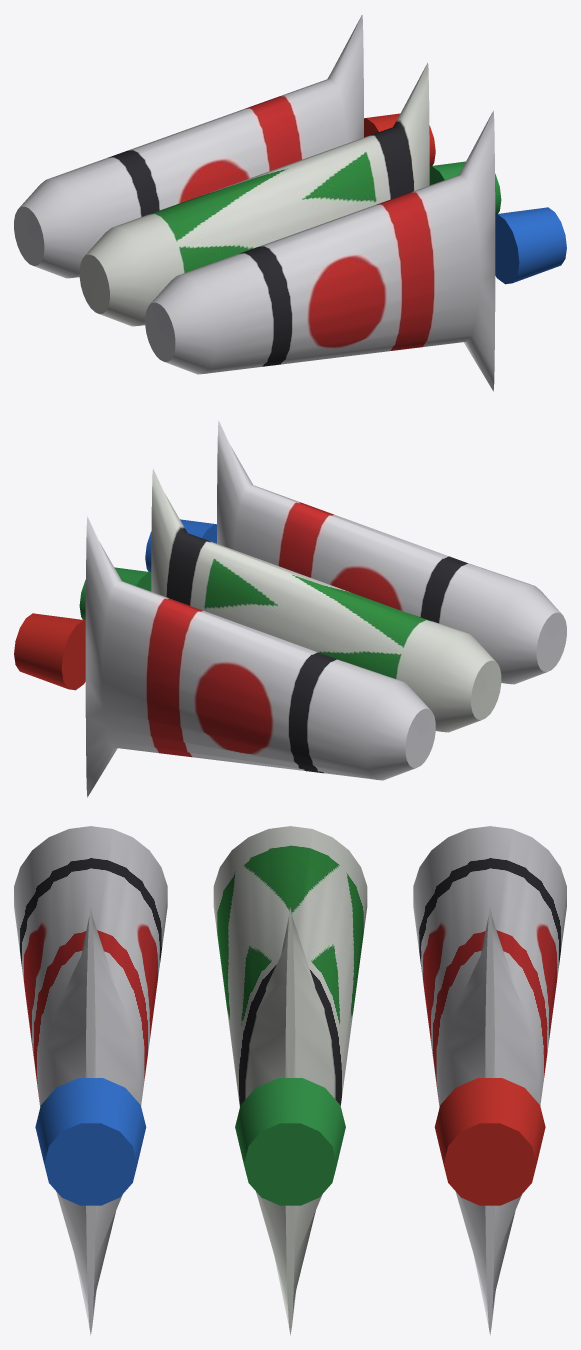
File: ration_nutrient_tubes_set.glb
The picture shows the model from 3 angles, top to bottom: view 1: azimuth 30°, elevation 25°; view 2: azimuth 150°, elevation 25°; view 3: azimuth 270°, elevation 25°; orthographic projection. The views are drawn at different scales.
Visible parts, largest first — view 1: ration_nutrient_tubes_set; view 2: ration_nutrient_tubes_set; view 3: ration_nutrient_tubes_set.
Part boxes in pixels (x1,y1,x2,y2): ration_nutrient_tubes_set: (14,15,566,391); ration_nutrient_tubes_set: (14,421,566,797); ration_nutrient_tubes_set: (14,826,566,1335).
Size of the model in its own units: 0.155 by 0.1067 by 0.1246.
Materials: 5 (2 with a texture image).
